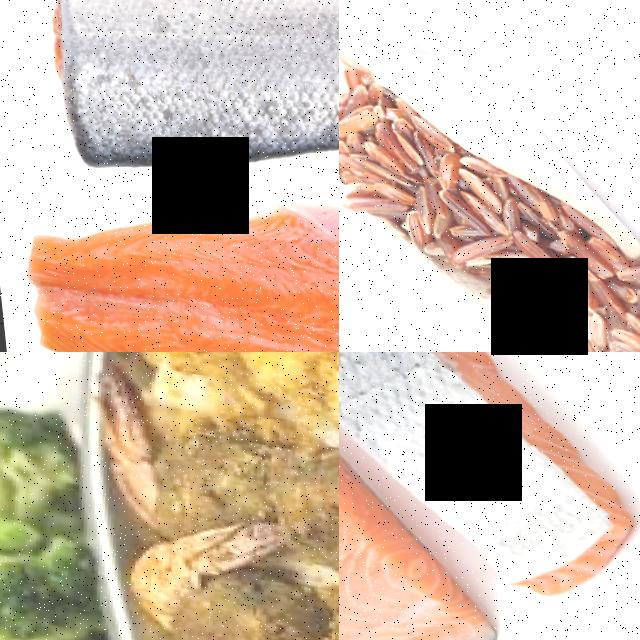red rice: (339, 99, 614, 324), (556, 210, 640, 352)
salmon: (0, 110, 339, 352), (387, 384, 640, 609), (339, 479, 479, 640)
